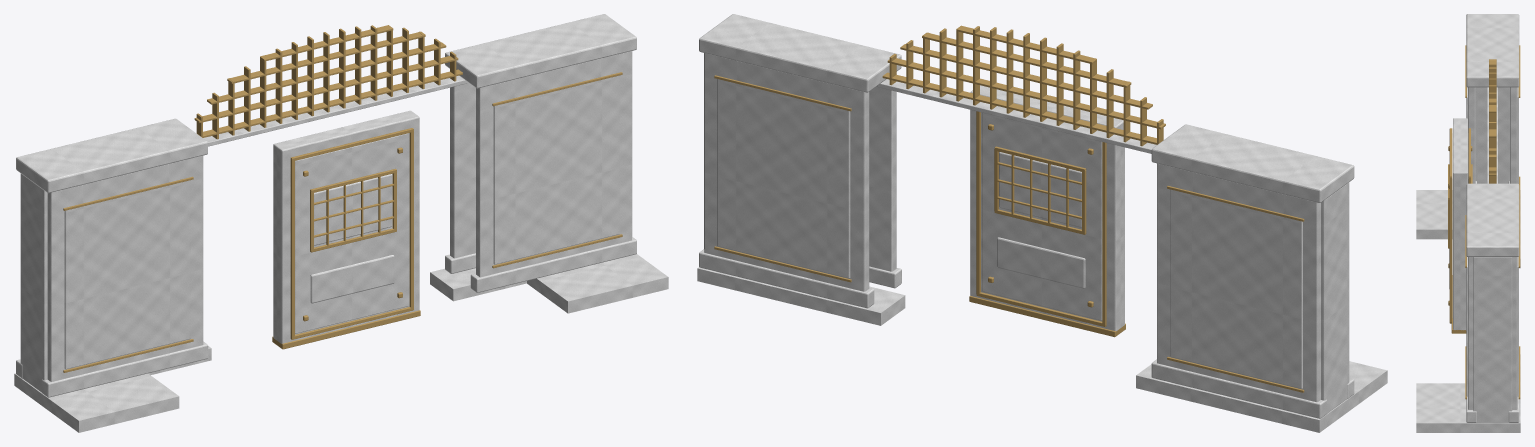
The model's file is sift-thresholds-v01.glb.
3 views of the same model, side by side, from view 1: azimuth 30°, elevation 25°; view 2: azimuth 150°, elevation 25°; view 3: azimuth 270°, elevation 25° (orthographic). The views are drawn at different scales.
Visible parts, largest first — view 1: SiftDoorHousing Sift threshold pale, SiftDoorHousing Sift threshold stone, SiftDoorHousing Sift threshold edge, SiftDoorLeaf Sift threshold cloth, SiftDoorVent Sift threshold brass, SiftDoorLeaf Sift threshold stone, SiftDoorLeaf Sift threshold brass, SiftDoorLeaf Sift threshold edge, SiftDoorLeaf Sift threshold pale, SiftDoorVent Sift threshold edge, SiftDoorHousing Sift threshold brass; view 2: SiftDoorHousing Sift threshold pale, SiftDoorHousing Sift threshold stone, SiftDoorHousing Sift threshold edge, SiftDoorLeaf Sift threshold cloth, SiftDoorVent Sift threshold brass, SiftDoorLeaf Sift threshold brass, SiftDoorLeaf Sift threshold stone, SiftDoorLeaf Sift threshold edge, SiftDoorLeaf Sift threshold pale, SiftDoorVent Sift threshold edge, SiftDoorHousing Sift threshold brass; view 3: SiftDoorHousing Sift threshold edge, SiftDoorHousing Sift threshold pale, SiftDoorHousing Sift threshold stone, SiftDoorLeaf Sift threshold stone, SiftDoorLeaf Sift threshold brass, SiftDoorVent Sift threshold brass, SiftDoorHousing Sift threshold brass, SiftDoorVent Sift threshold edge, SiftDoorLeaf Sift threshold cloth.
Boxes of the visible parts, box(x1,y1,x2,y2) form: SiftDoorHousing Sift threshold pale: box(16, 14, 636, 369); SiftDoorHousing Sift threshold stone: box(47, 51, 631, 381); SiftDoorHousing Sift threshold edge: box(14, 51, 668, 432); SiftDoorLeaf Sift threshold cloth: box(295, 133, 408, 333); SiftDoorVent Sift threshold brass: box(194, 25, 462, 139); SiftDoorLeaf Sift threshold stone: box(273, 110, 419, 343); SiftDoorLeaf Sift threshold brass: box(272, 128, 420, 349); SiftDoorLeaf Sift threshold edge: box(314, 174, 392, 245); SiftDoorLeaf Sift threshold pale: box(310, 255, 394, 303); SiftDoorVent Sift threshold edge: box(203, 75, 467, 146); SiftDoorHousing Sift threshold brass: box(63, 72, 622, 372); SiftDoorHousing Sift threshold pale: box(699, 14, 1354, 388); SiftDoorHousing Sift threshold stone: box(704, 53, 1320, 402); SiftDoorHousing Sift threshold edge: box(697, 53, 1387, 432); SiftDoorLeaf Sift threshold cloth: box(982, 112, 1102, 320); SiftDoorVent Sift threshold brass: box(882, 25, 1165, 146); SiftDoorLeaf Sift threshold brass: box(969, 111, 1125, 337); SiftDoorLeaf Sift threshold stone: box(970, 85, 1124, 331); SiftDoorLeaf Sift threshold edge: box(999, 152, 1081, 227); SiftDoorLeaf Sift threshold pale: box(997, 237, 1085, 288); SiftDoorVent Sift threshold edge: box(877, 79, 1156, 153); SiftDoorHousing Sift threshold brass: box(714, 75, 1304, 392); SiftDoorHousing Sift threshold edge: box(1416, 87, 1520, 432); SiftDoorHousing Sift threshold pale: box(1466, 14, 1519, 396); SiftDoorHousing Sift threshold stone: box(1468, 87, 1517, 409); SiftDoorLeaf Sift threshold stone: box(1453, 118, 1467, 330); SiftDoorLeaf Sift threshold brass: box(1448, 128, 1472, 333); SiftDoorVent Sift threshold brass: box(1489, 59, 1496, 183); SiftDoorHousing Sift threshold brass: box(1465, 45, 1520, 399); SiftDoorVent Sift threshold edge: box(1487, 87, 1497, 183); SiftDoorLeaf Sift threshold cloth: box(1452, 133, 1468, 318).
Size of the model in its own units: 10.24 by 4.86 by 1.94.
Materials: 5 (4 with a texture image).
